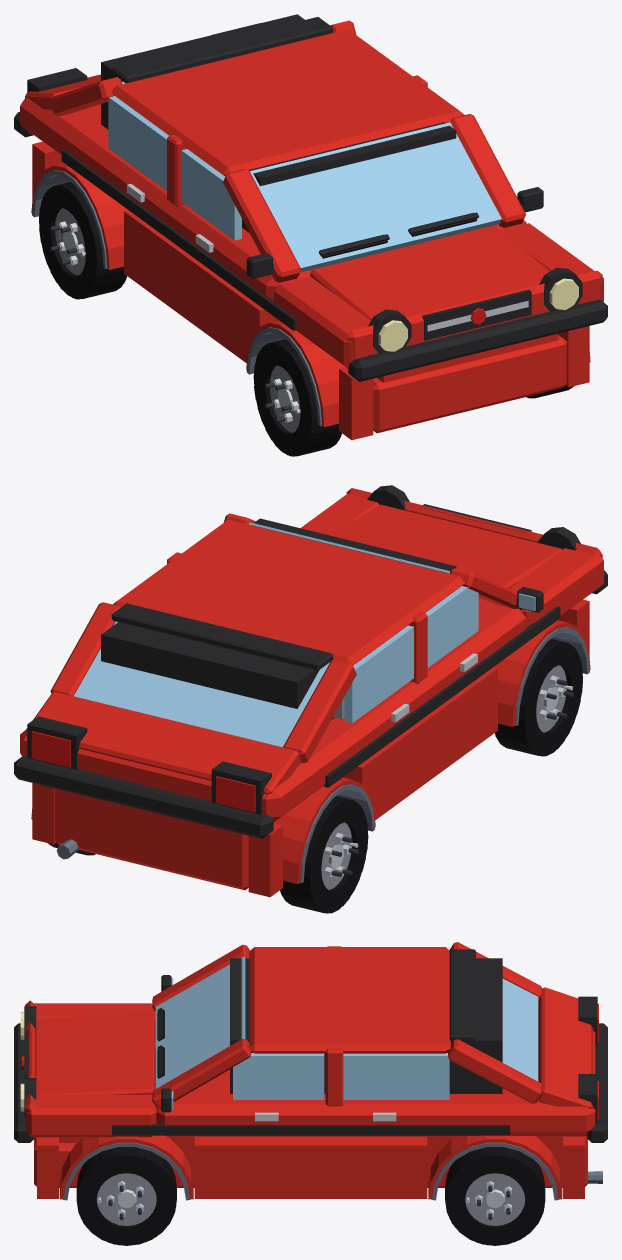
File: Hatchback.glb
The picture shows the model from 3 angles, top to bottom: view 1: azimuth 30°, elevation 25°; view 2: azimuth 150°, elevation 25°; view 3: azimuth 270°, elevation 25°; orthographic projection. The views are drawn at different scales.
Parts seen in each view (by area): view 1: Body, Windscreen, Hood, WheelRR, WheelFR, LampR, LampL, WiperR, WiperL; view 2: Body, Hood, WheelRR, WheelFR, Windscreen; view 3: Body, Hood, WheelFL, WheelRL, Windscreen, RotorFL, RotorRL.
Boxes of the visible parts, x1,y1,x2,y2 form: Body: (14,14,607,440); Windscreen: (250,122,501,272); Hood: (310,225,549,320); WheelRR: (39,182,127,299); WheelFR: (253,339,341,456); LampR: (378,320,407,351); LampL: (549,278,578,309); WiperR: (318,234,389,258); WiperL: (408,212,478,236); Body: (14,485,607,897); Hood: (330,504,562,588); WheelRR: (280,796,368,913); WheelFR: (495,639,582,756); Windscreen: (249,522,449,573); Body: (14,942,607,1200); Hood: (35,1012,154,1095); WheelFL: (76,1147,176,1245); WheelRL: (445,1147,545,1245); Windscreen: (155,956,245,1088); RotorFL: (107,1180,145,1220); RotorRL: (476,1180,514,1220).
Bounding box in the file's own units: 1.97 × 1.48 × 4.03.
